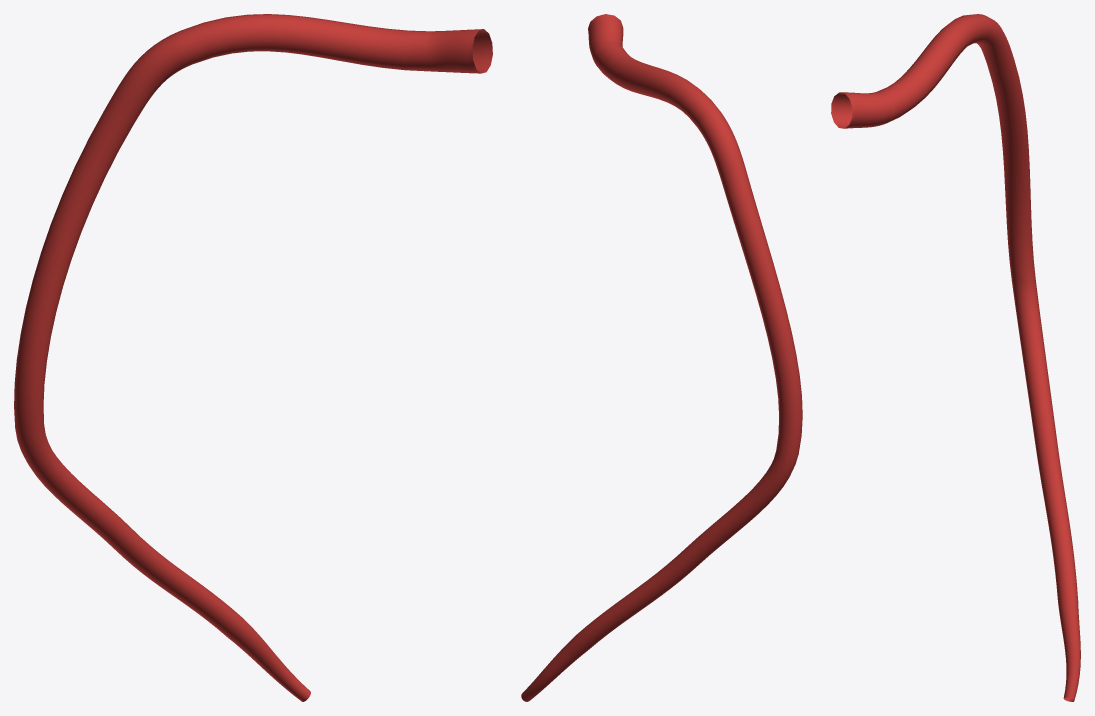
The picture shows the model from 3 angles, left to right: view 1: azimuth 30°, elevation 25°; view 2: azimuth 150°, elevation 25°; view 3: azimuth 270°, elevation 25°; orthographic projection. The views are drawn at different scales.
Visible parts, largest first — view 1: 左侧膝下内侧动脉; view 2: 左侧膝下内侧动脉; view 3: 左侧膝下内侧动脉.
Part boxes in pixels (<box>): 左侧膝下内侧动脉: <box>14,14,492,701</box>; 左侧膝下内侧动脉: <box>521,14,802,701</box>; 左侧膝下内侧动脉: <box>831,14,1080,701</box>.
Bounding box in the file's own units: 0.0564 × 0.1108 × 0.0399.
